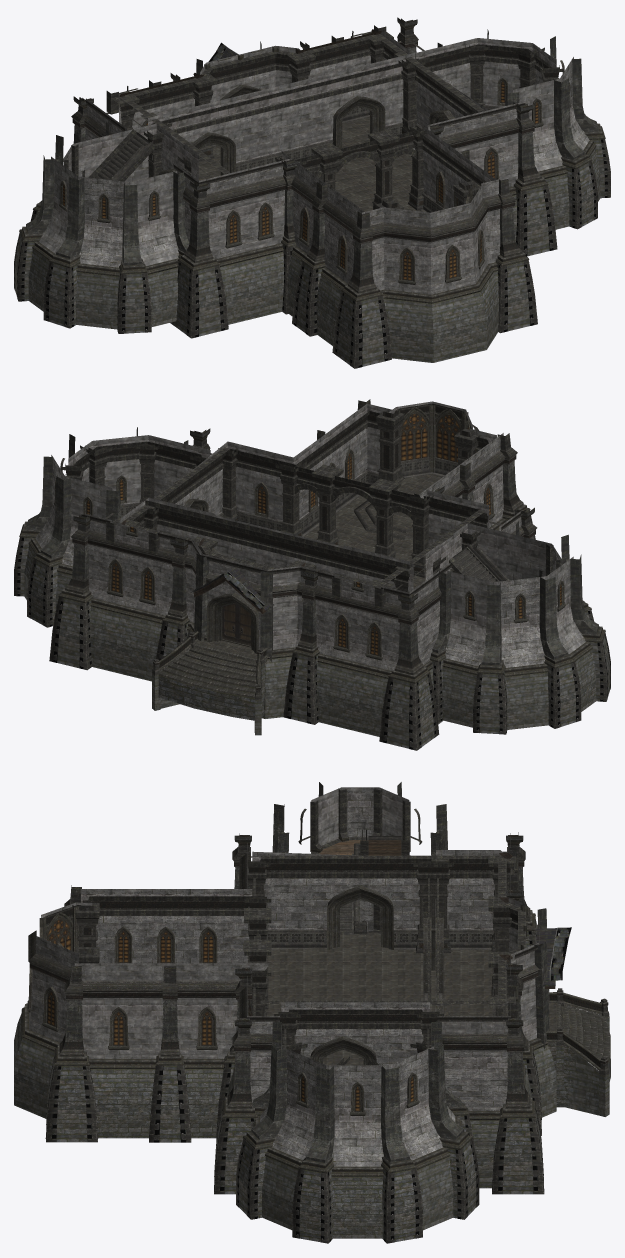
Rendered from eso_gu4_LargeManor_InteriorCombinedCut2-transformed.glb.
3 renders of one model, top to bottom at view 1: azimuth 30°, elevation 25°; view 2: azimuth 150°, elevation 25°; view 3: azimuth 270°, elevation 25°, orthographic. The views are drawn at different scales.
Visible parts, largest first — view 1: default; view 2: default; view 3: default.
Boxes of the visible parts, x1,y1,x2,y2 form: default: (14, 17, 610, 368); default: (14, 399, 610, 750); default: (14, 782, 610, 1243).
Bounding box in the file's own units: 77.22 × 19.07 × 60.8.
Materials: 15 (15 with a texture image).
